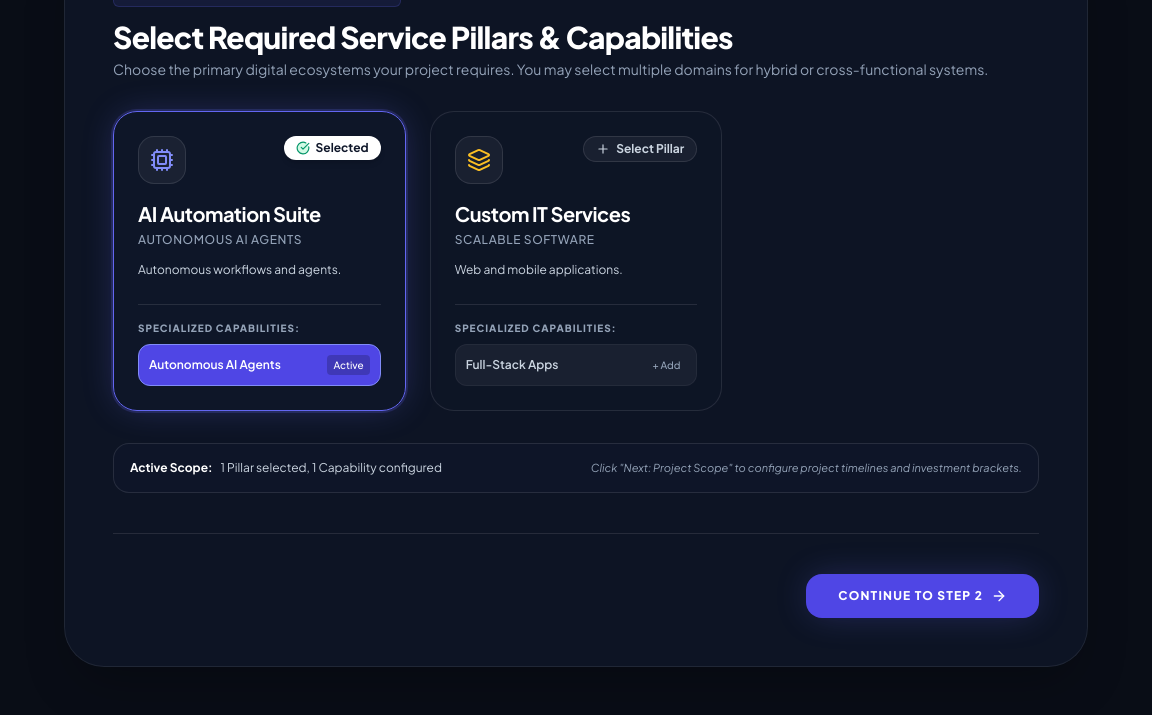
Scenario: InquiryConfigurator Component Test Suite › allows advancing to Step 2 and selecting budget & timeline
(page scrolled)
Click Continue to Step 2
Click the button "Continue to Step 2".
click(923, 596)  # box 806,574 -> 1039,618
(page scrolled)
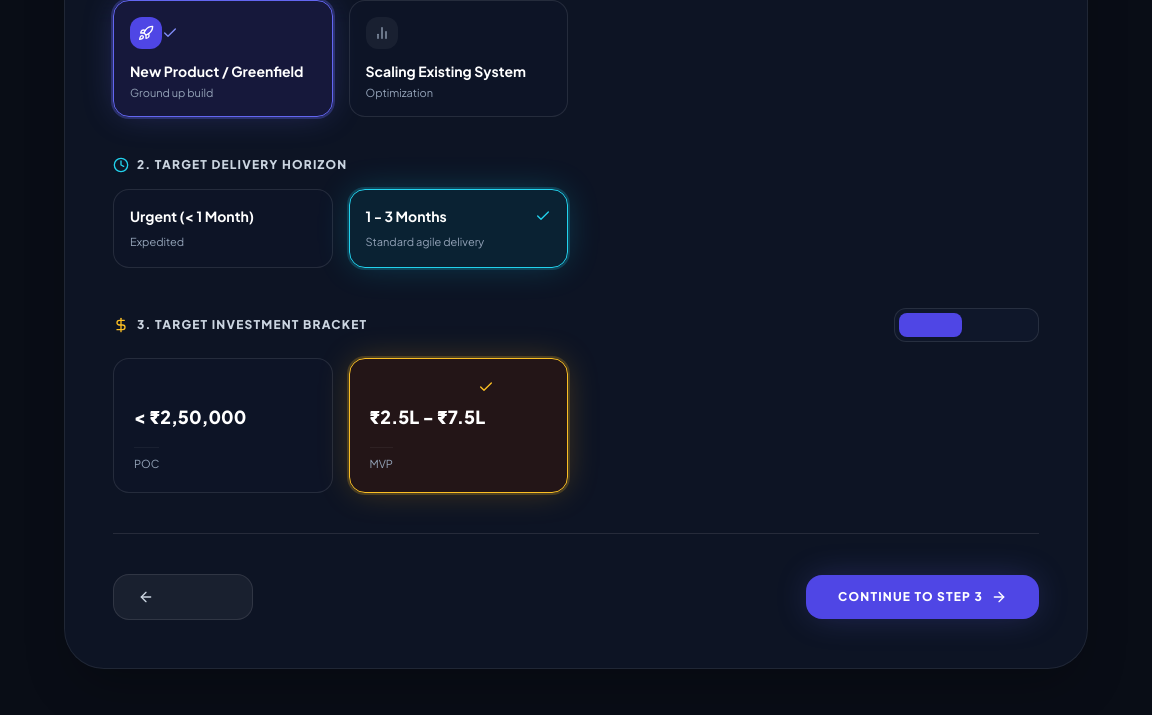
Now the text "Continue to Step 3" is shown, box 838,589 -> 983,605
